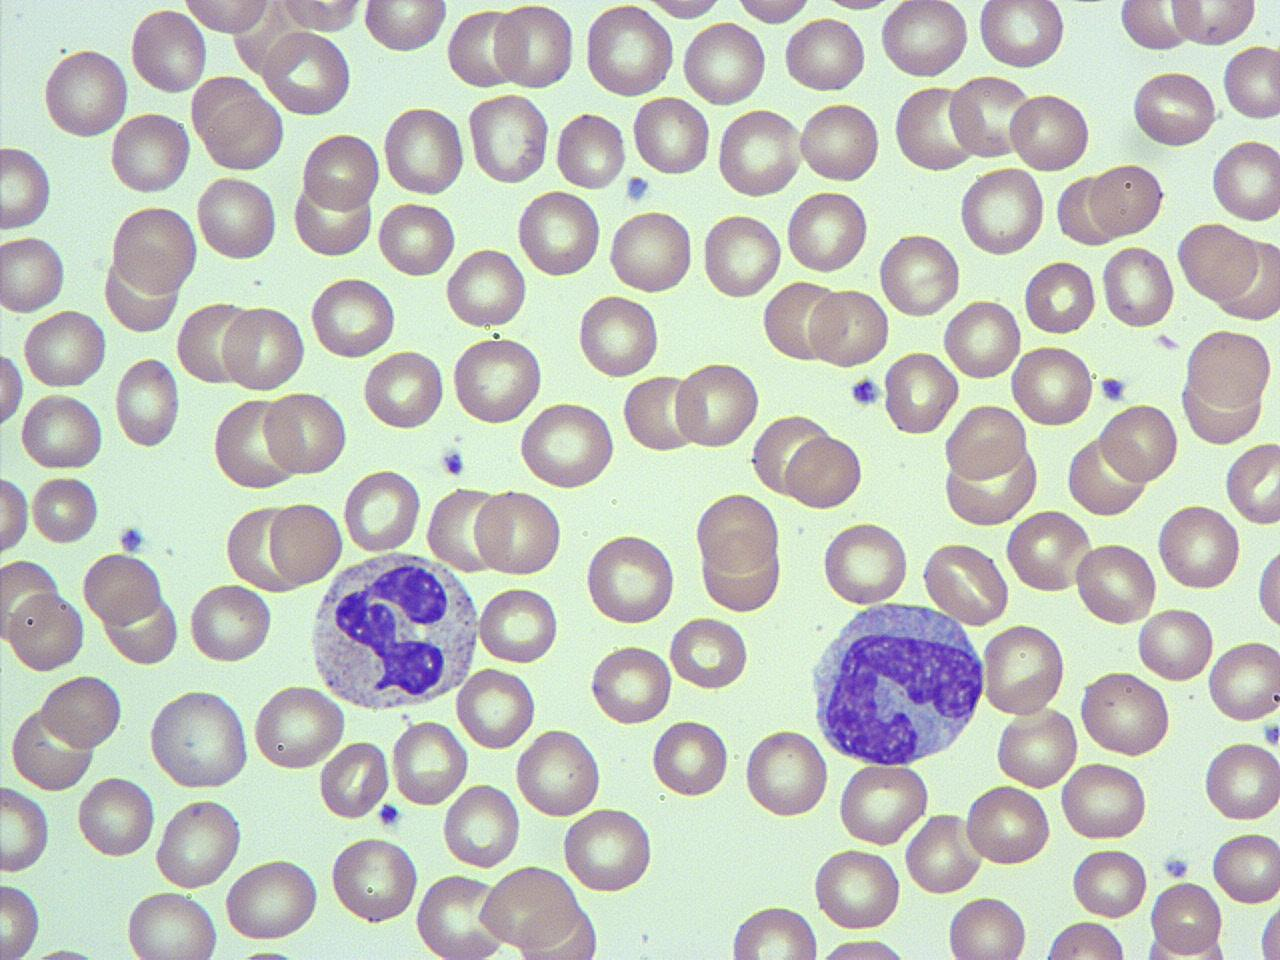Platelets: (848, 375, 884, 410), (115, 522, 148, 556), (1096, 374, 1128, 405), (240, 944, 298, 960), (440, 445, 468, 479), (624, 174, 652, 205), (377, 800, 404, 830), (1160, 854, 1190, 881), (1262, 720, 1280, 749)
RBC: (146, 686, 252, 792), (582, 530, 677, 628), (516, 401, 618, 492), (582, 3, 676, 100), (328, 832, 422, 928), (512, 724, 605, 822), (449, 333, 543, 428), (559, 806, 656, 898), (222, 854, 322, 944), (979, 620, 1069, 718), (741, 724, 831, 822), (111, 200, 201, 298), (154, 794, 244, 890), (1075, 670, 1173, 758), (715, 106, 806, 200), (250, 682, 344, 773), (473, 486, 564, 580), (834, 763, 933, 849), (210, 396, 298, 492), (41, 45, 129, 142), (672, 358, 762, 452), (220, 301, 308, 395), (1183, 324, 1275, 414), (414, 869, 506, 960), (958, 164, 1047, 258), (680, 16, 768, 111), (258, 29, 354, 116), (466, 90, 551, 187), (820, 518, 912, 608), (811, 844, 905, 932), (382, 102, 467, 199), (605, 206, 694, 296), (1008, 341, 1098, 431), (514, 189, 604, 278), (8, 702, 96, 794), (490, 0, 577, 93), (918, 539, 1012, 625), (308, 274, 400, 361), (891, 82, 977, 174), (453, 662, 538, 754), (361, 345, 449, 435), (262, 388, 349, 479), (1155, 501, 1241, 593), (701, 209, 785, 303), (21, 304, 109, 392), (784, 187, 870, 277), (1073, 538, 1159, 629), (946, 71, 1031, 162), (692, 489, 784, 574), (574, 292, 662, 380), (1004, 508, 1093, 594), (992, 704, 1080, 790), (1007, 88, 1093, 176), (962, 784, 1051, 868), (878, 230, 962, 321), (109, 107, 193, 198), (75, 771, 158, 862), (424, 483, 506, 576), (129, 4, 209, 99), (195, 174, 278, 263), (941, 294, 1024, 384), (1058, 760, 1148, 843), (341, 466, 422, 557), (880, 347, 962, 438), (389, 716, 470, 808), (879, 0, 971, 81), (444, 244, 528, 332), (806, 284, 890, 372), (16, 390, 107, 471), (123, 886, 222, 960), (782, 12, 868, 97), (1130, 67, 1218, 149), (902, 810, 984, 898), (186, 582, 275, 664), (441, 781, 522, 870), (40, 670, 125, 754), (590, 641, 674, 726), (798, 100, 883, 185), (1176, 219, 1262, 303), (750, 411, 833, 498), (221, 502, 302, 590), (477, 581, 560, 666), (630, 93, 712, 179), (649, 716, 731, 802), (1098, 400, 1178, 486), (6, 588, 87, 674), (762, 278, 842, 365), (112, 353, 182, 451), (376, 198, 460, 279), (300, 130, 381, 215), (175, 298, 252, 386), (268, 498, 345, 586), (1135, 604, 1217, 686), (1202, 738, 1280, 824), (204, 93, 286, 172), (944, 403, 1026, 483), (784, 432, 864, 513), (82, 548, 164, 626), (1102, 244, 1176, 331), (1206, 637, 1280, 725), (976, 0, 1068, 70), (1087, 160, 1167, 240), (668, 614, 752, 690), (446, 6, 521, 91), (1209, 134, 1279, 225), (318, 737, 392, 822), (554, 108, 628, 193), (1070, 843, 1150, 921), (622, 373, 698, 454), (1149, 877, 1225, 959), (1023, 257, 1097, 338), (0, 231, 68, 317), (724, 902, 822, 959), (944, 894, 1030, 960), (1210, 828, 1280, 908), (29, 472, 102, 547), (0, 781, 53, 875), (1225, 438, 1280, 527), (0, 143, 55, 233), (1220, 42, 1280, 124), (361, 1, 447, 55), (1167, 0, 1259, 50), (1117, 0, 1197, 53), (1040, 918, 1130, 960), (178, 0, 277, 36), (0, 880, 44, 958), (276, 0, 369, 34), (811, 936, 924, 960), (0, 470, 31, 556), (1253, 541, 1279, 633), (0, 343, 26, 435), (732, 0, 816, 28), (640, 0, 732, 23), (1256, 898, 1280, 960)
WBC: (804, 596, 990, 770), (304, 547, 484, 716)
